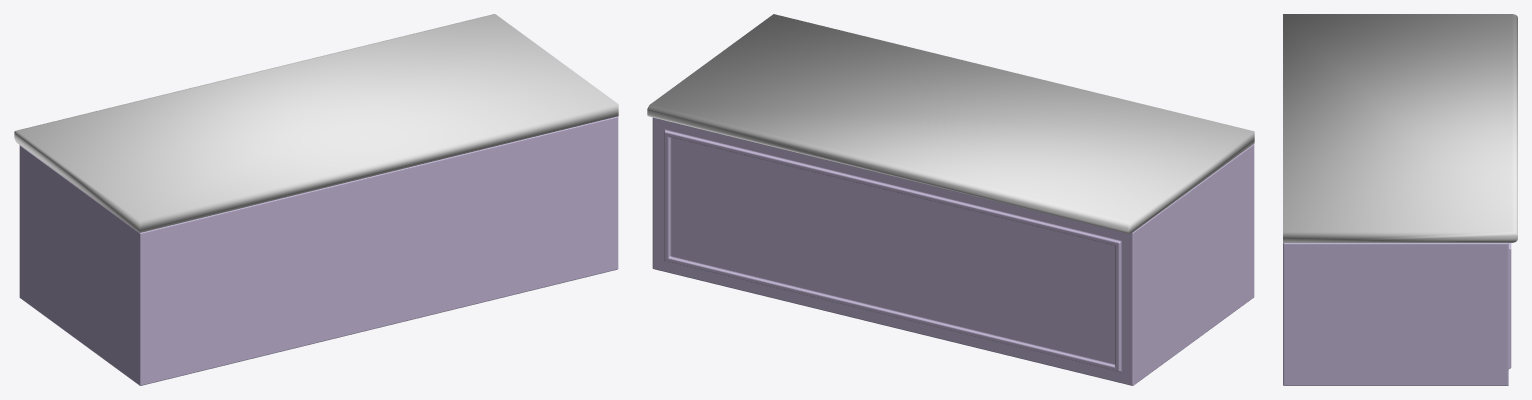
The model's file is front-counter.fbx.
3 renders of one model, left to right at view 1: azimuth 30°, elevation 25°; view 2: azimuth 150°, elevation 25°; view 3: azimuth 270°, elevation 25°, orthographic. The views are drawn at different scales.
Visible parts, largest first — view 1: front-counter, front-countertop; view 2: front-counter, front-countertop; view 3: front-countertop, front-counter.
Boxes of the visible parts, x1,y1,x2,y2 form: front-counter: (19, 116, 618, 385); front-countertop: (14, 14, 618, 232); front-counter: (652, 117, 1254, 385); front-countertop: (647, 14, 1254, 233); front-countertop: (1283, 14, 1517, 242); front-counter: (1283, 243, 1511, 385).
Size of the model in its own units: 4358 by 1439 by 1984.
